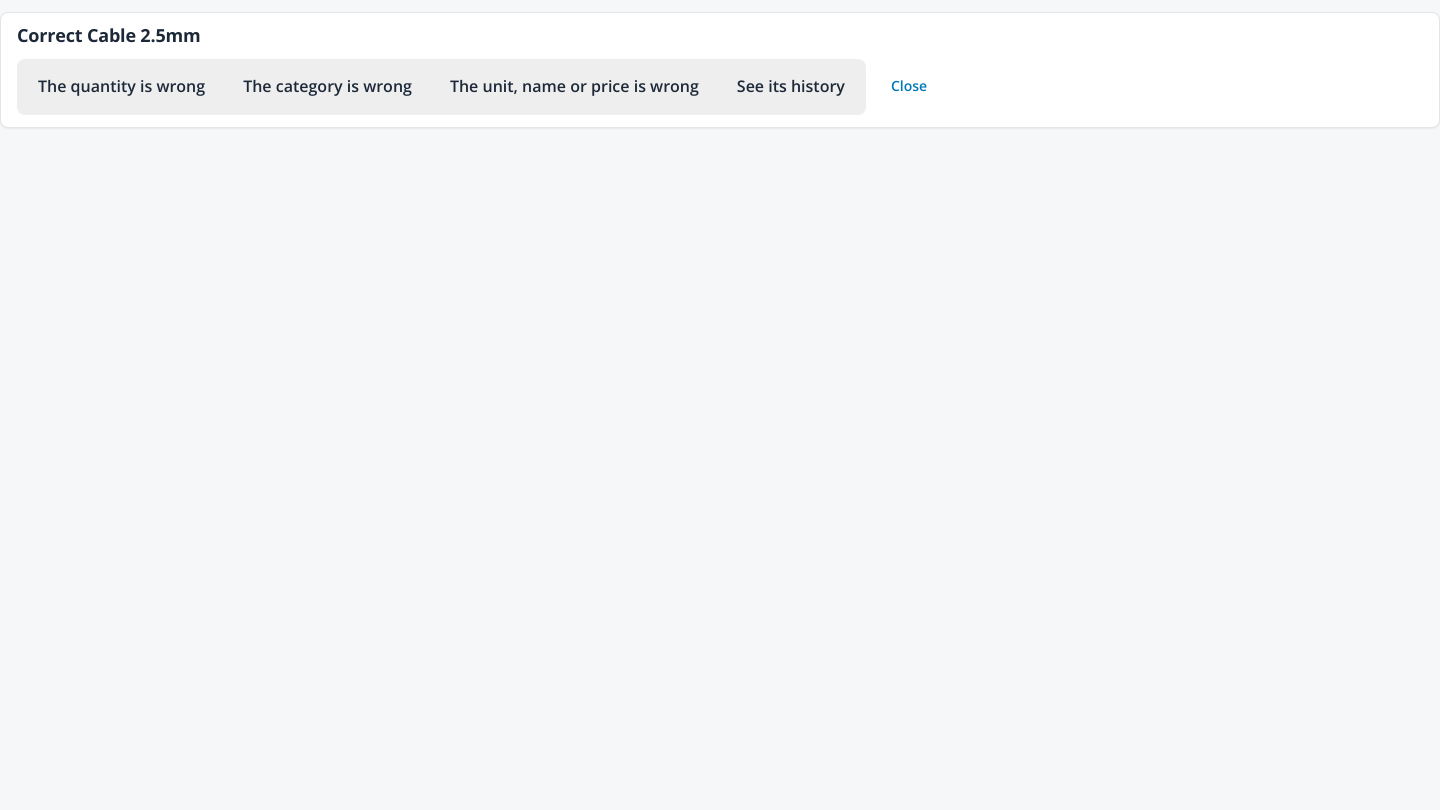
a quantity that moved meanwhile › keeps a draft typed against the quantity on the list now
Click the radio button labelled "The quantity is wrong" at (122, 87), box [21,63,222,111]
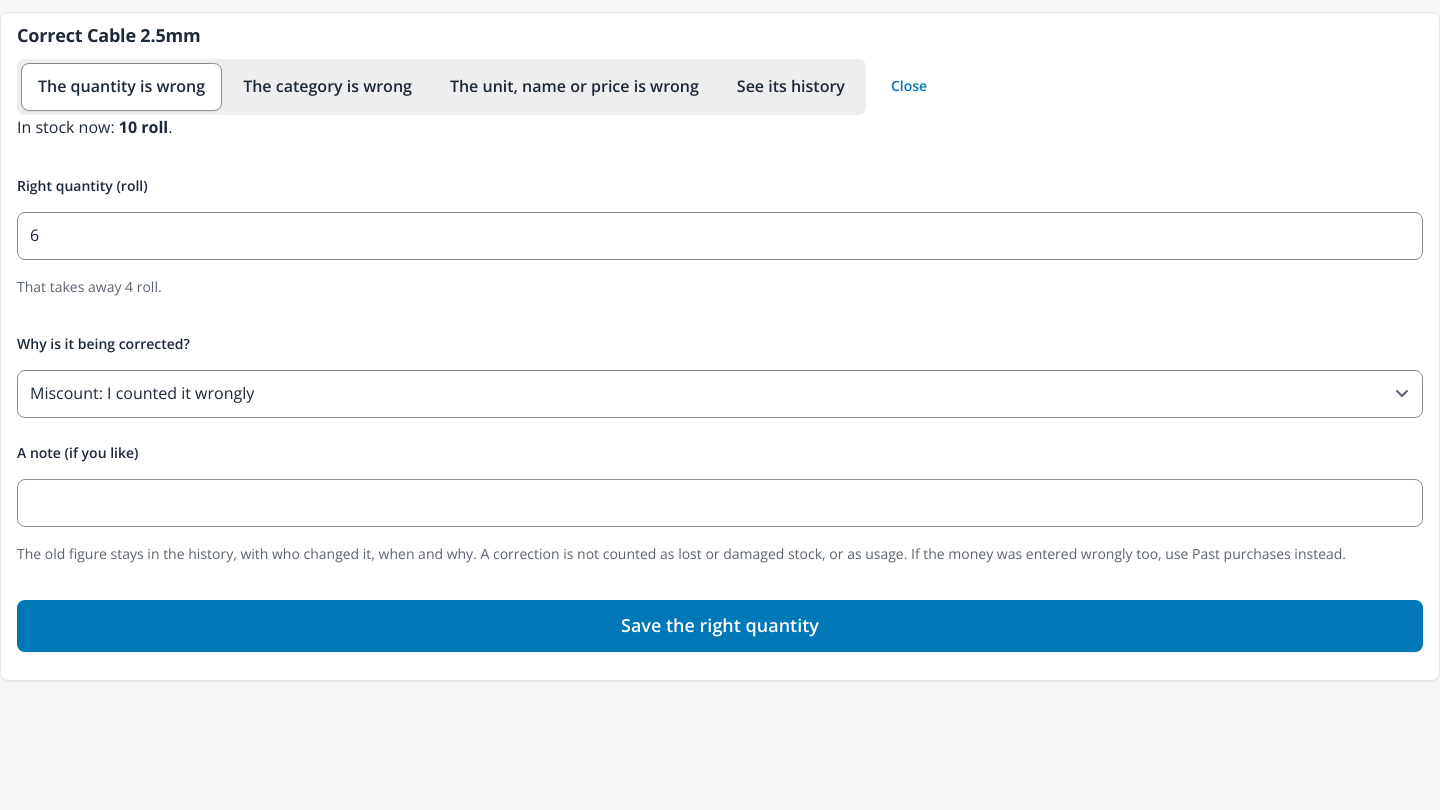
Result: the field labelled "Right quantity (roll)" holds "6" at [17,212,1423,260]
Result: the dropdown labelled "Why is it being corrected?" shows "Miscount: I counted it wrongly" at [17,370,1423,418]
